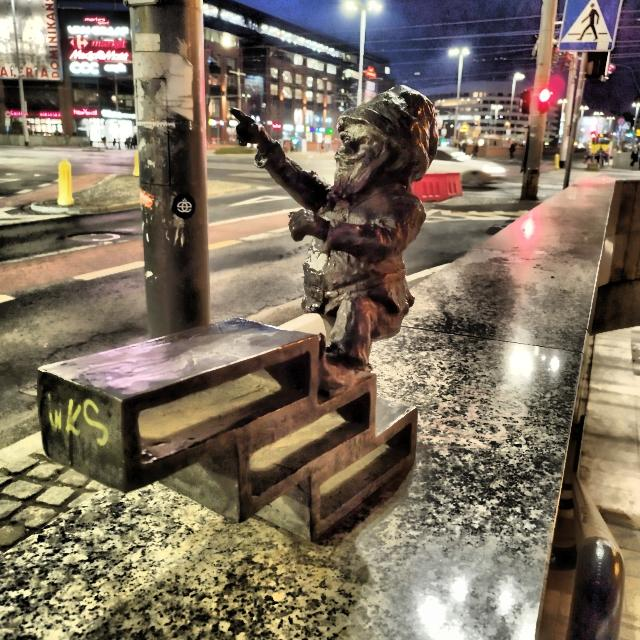Elementek: (39, 88, 438, 540)
